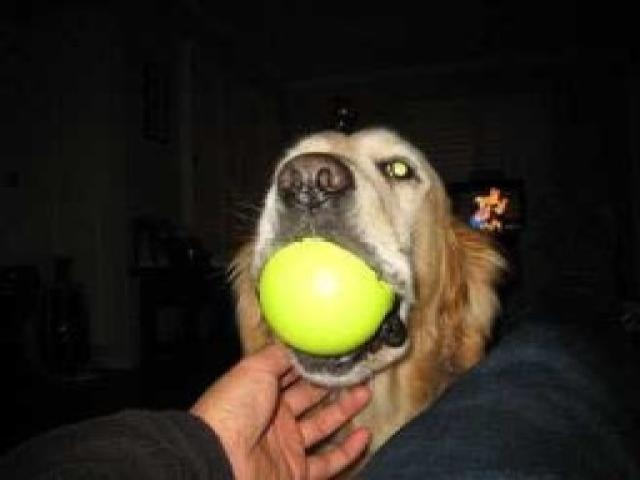tennis-ball: (264, 244, 392, 356)
